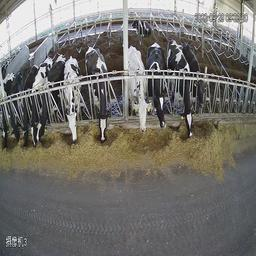cow: (84, 45, 114, 136), (168, 39, 192, 144), (33, 56, 59, 142), (147, 40, 168, 130), (127, 43, 147, 133), (65, 51, 84, 139), (193, 48, 207, 114), (10, 69, 20, 146), (21, 64, 30, 148), (1, 71, 9, 147), (130, 18, 151, 36)
